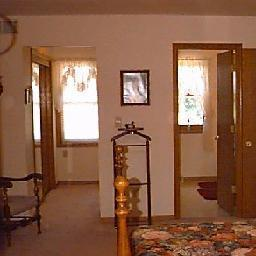Cama: (116, 213, 254, 255)
Puerta: (215, 50, 232, 208), (243, 47, 254, 214)
